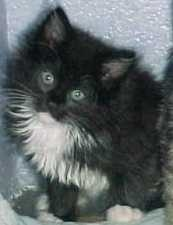Cat: (15, 6, 168, 203)
